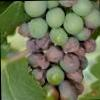Grape Rotten: (17, 0, 100, 100)
